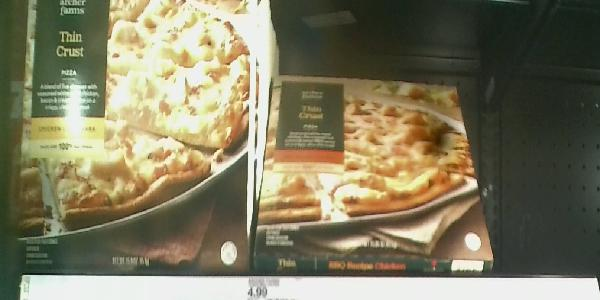pizza1: (20, 1, 249, 275), (258, 68, 497, 273)
